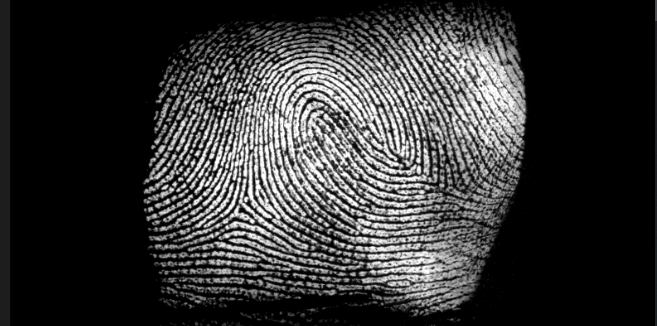deltas: (419, 160, 473, 211), (220, 176, 269, 229)
nucleo: (321, 82, 412, 174)
